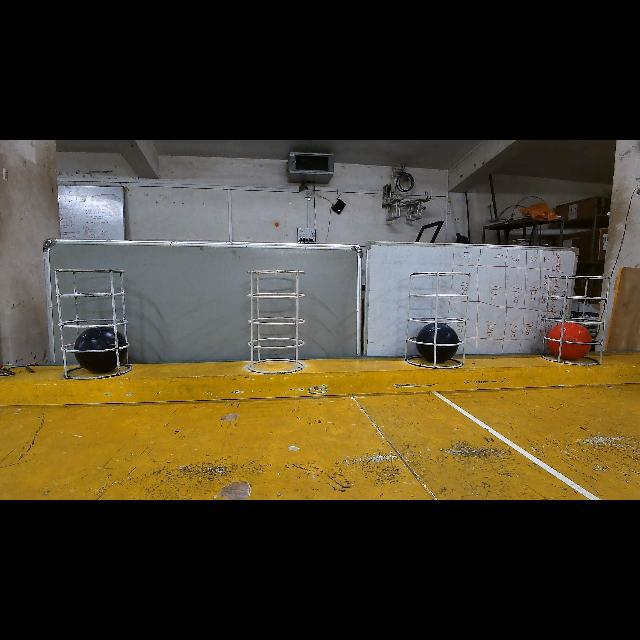P: (74, 328, 128, 374), (416, 322, 460, 364)
R: (548, 322, 592, 360)
S: (51, 264, 140, 380), (244, 264, 310, 382), (402, 264, 472, 370), (544, 270, 604, 366)
